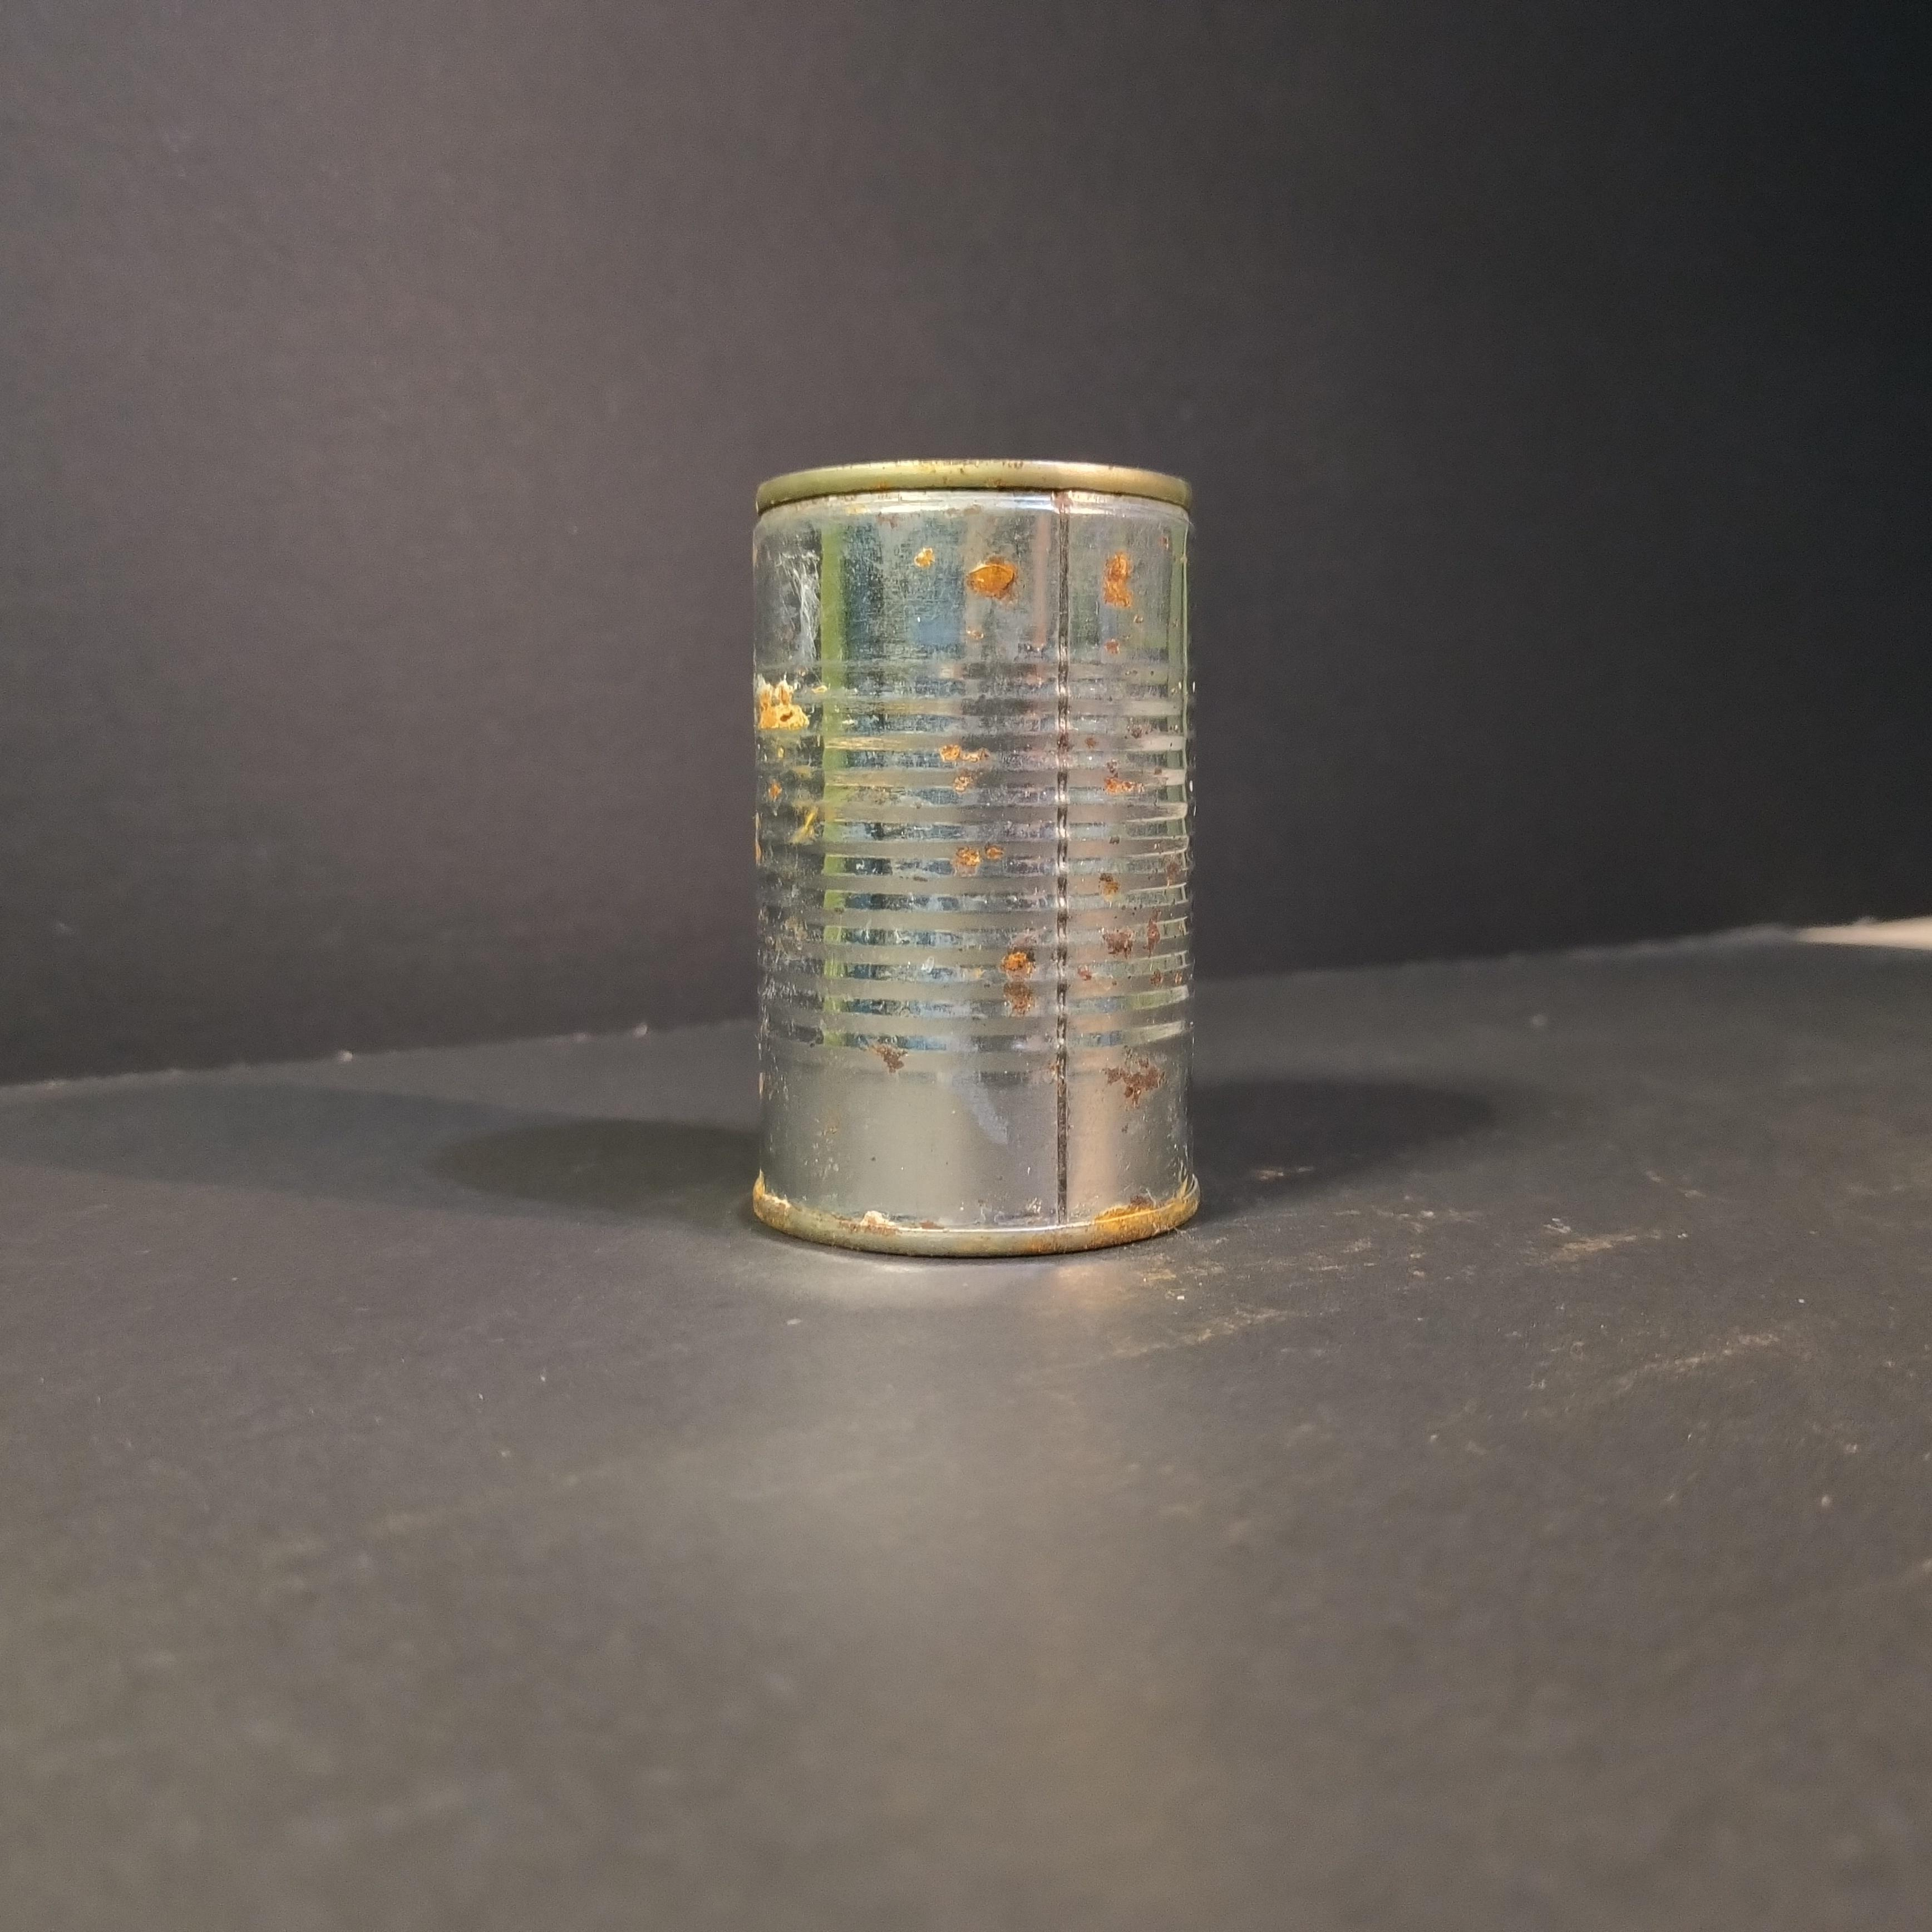Rusted: (732, 437, 1228, 1277)
